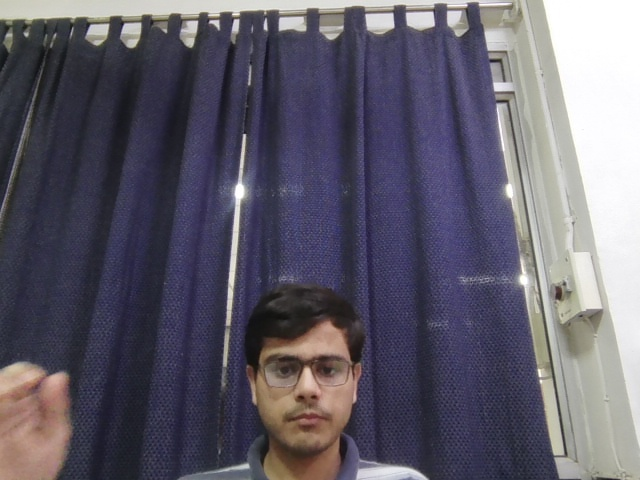face: (243, 281, 365, 455)
